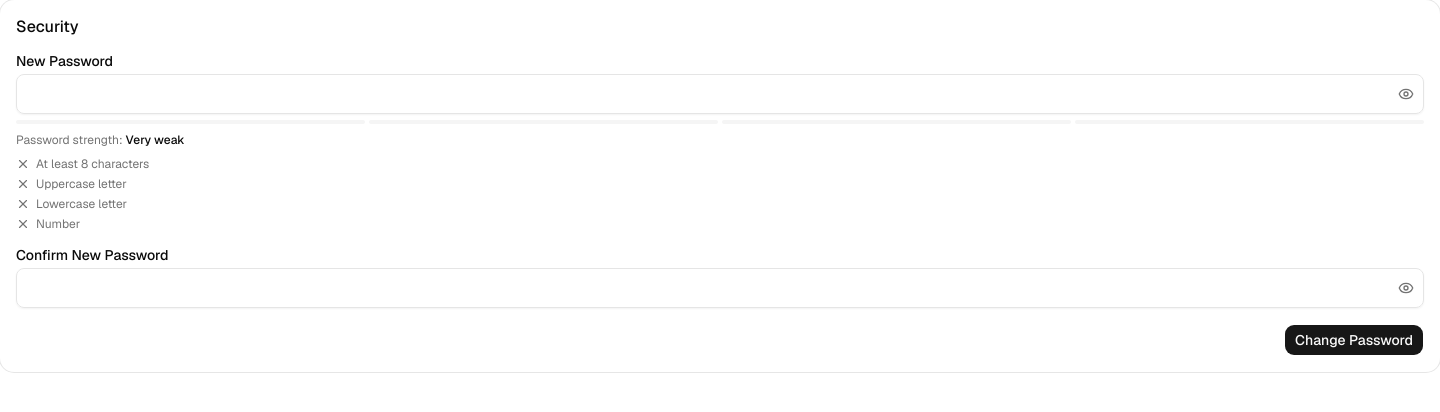
Scenario: ChangePasswordForm › rejects a password that fails the existing strength rules
Type "weak" into the password field labelled "New Password" at (720, 94), box [16,74,1424,114]
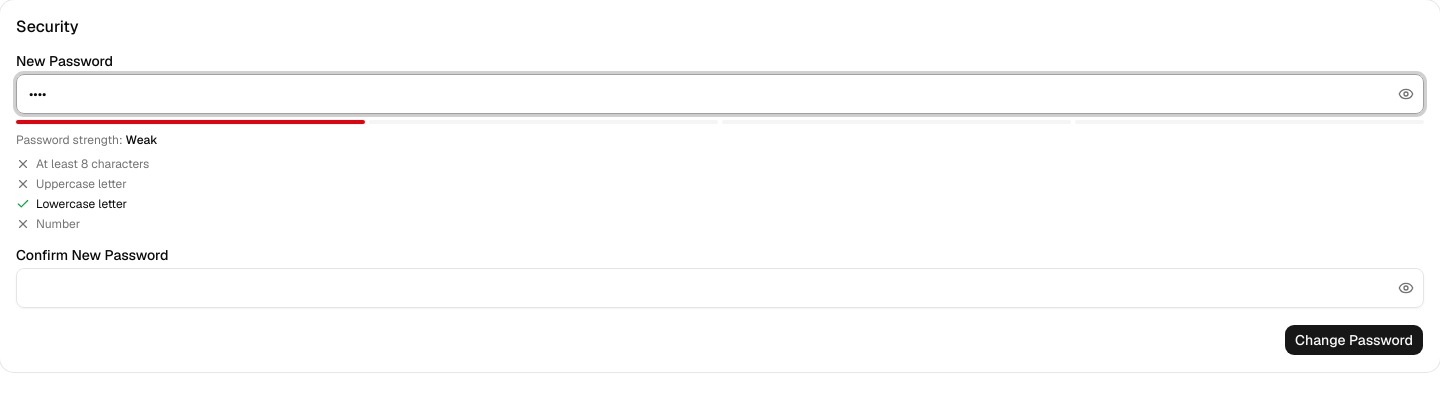
Type "weak" into the password field labelled "Confirm New Password" at (720, 288), box [16,268,1424,308]
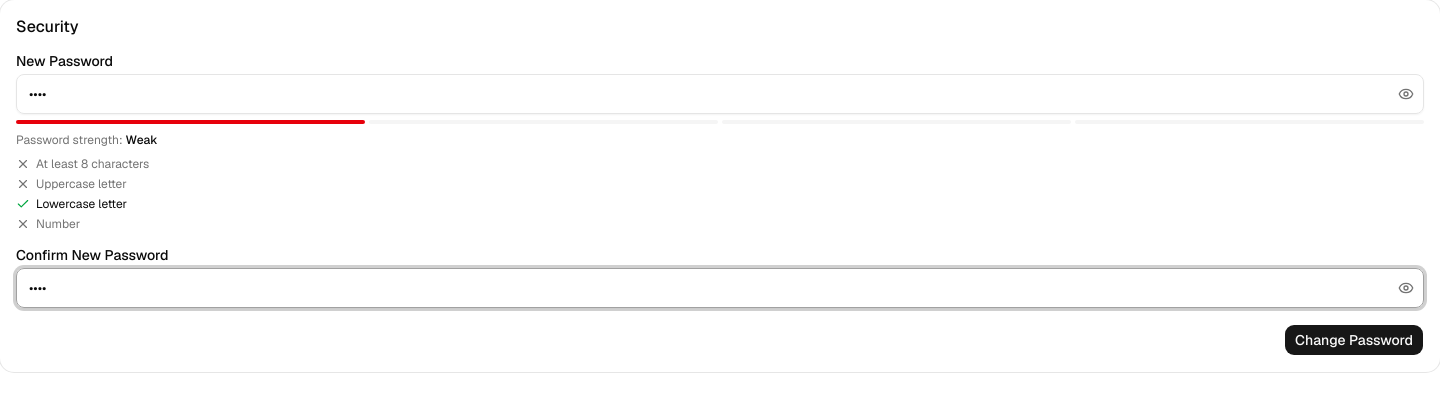
Click the button "Change Password" at (1354, 340), box [1284,324,1424,356]
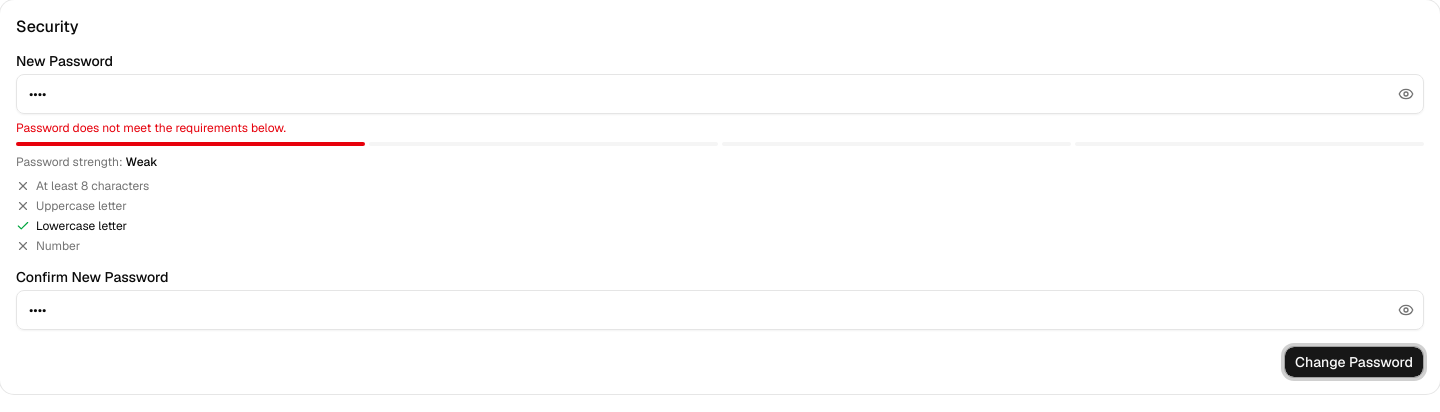
Expected: the text "Password does not meet the requirements below." is shown, [16,120,286,136]
